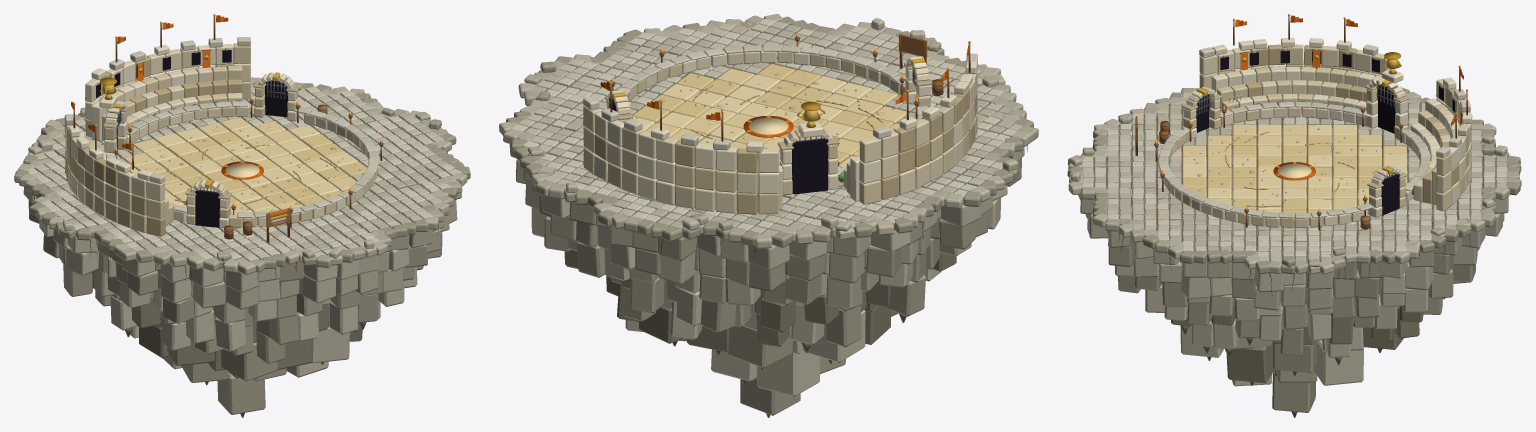
Rendered from arene-ile.glb.
3 renders of one model, left to right at view 1: azimuth 30°, elevation 25°; view 2: azimuth 150°, elevation 25°; view 3: azimuth 270°, elevation 25°, orthographic. The views are drawn at different scales.
Visible parts, largest first — view 1: pierre_fond.111, pierre_fond.084, pierre_fond.152, herse_trou.001, pierre_fond.050, pierre_fond.126, pierre_fond.120, pierre_fond.089, pierre_fond.028, pierre.099, herse_trou.002, pierre.005 (+27 smaller); view 2: pierre_fond.071, herse_trou, pierre_fond.066, pierre_fond.111, pierre_fond.023, pierre_fond.002, pierre_fond.124, pierre_fond.037, pierre_fond.030, pierre_fond.060, pierre_fond.105, pierre.007 (+38 smaller); view 3: pierre_fond.180, pierre_fond.172, pierre_fond.111, pierre_fond.176, herse_trou, herse_trou.002, pierre_fond.214, pierre.183, pierre.211, pierre_fond.204, pierre_fond.216, pierre_fond.212 (+29 smaller).
Part boxes in pixels (<box>): pierre_fond.111: <box>217,372,265,414</box>; pierre_fond.084: <box>221,342,277,381</box>; pierre_fond.152: <box>311,326,349,363</box>; herse_trou.001: <box>195,190,219,227</box>; pierre_fond.050: <box>215,317,245,351</box>; pierre_fond.126: <box>329,301,358,334</box>; pierre_fond.120: <box>277,339,312,369</box>; pierre_fond.089: <box>268,313,299,344</box>; pierre_fond.028: <box>186,310,214,343</box>; pierre.099: <box>302,273,335,303</box>; herse_trou.002: <box>265,80,288,117</box>; pierre.005: <box>66,246,98,275</box>; pierre_fond.071: <box>757,351,819,396</box>; herse_trou: <box>791,138,827,194</box>; pierre_fond.066: <box>728,326,792,368</box>; pierre_fond.111: <box>740,377,800,415</box>; pierre_fond.023: <box>826,305,861,347</box>; pierre_fond.002: <box>888,275,925,316</box>; pierre_fond.124: <box>630,277,664,313</box>; pierre_fond.037: <box>803,310,865,362</box>; pierre_fond.030: <box>760,297,795,332</box>; pierre_fond.060: <box>700,300,735,332</box>; pierre_fond.105: <box>711,349,756,381</box>; pierre.007: <box>866,244,901,277</box>; pierre_fond.180: <box>1226,341,1274,383</box>; pierre_fond.172: <box>1313,340,1363,385</box>; pierre_fond.111: <box>1272,370,1315,412</box>; pierre_fond.176: <box>1273,340,1316,373</box>; herse_trou: <box>1378,84,1396,133</box>; herse_trou.002: <box>1381,174,1399,215</box>; pierre_fond.214: <box>1307,306,1331,340</box>; pierre.183: <box>1405,261,1433,290</box>; pierre.211: <box>1181,270,1210,299</box>; pierre_fond.204: <box>1280,323,1304,355</box>; pierre_fond.216: <box>1259,306,1283,341</box>; pierre_fond.212: <box>1330,317,1353,344</box>.
Size of the model in its own units: 36.2 by 29.11 by 36.21.
